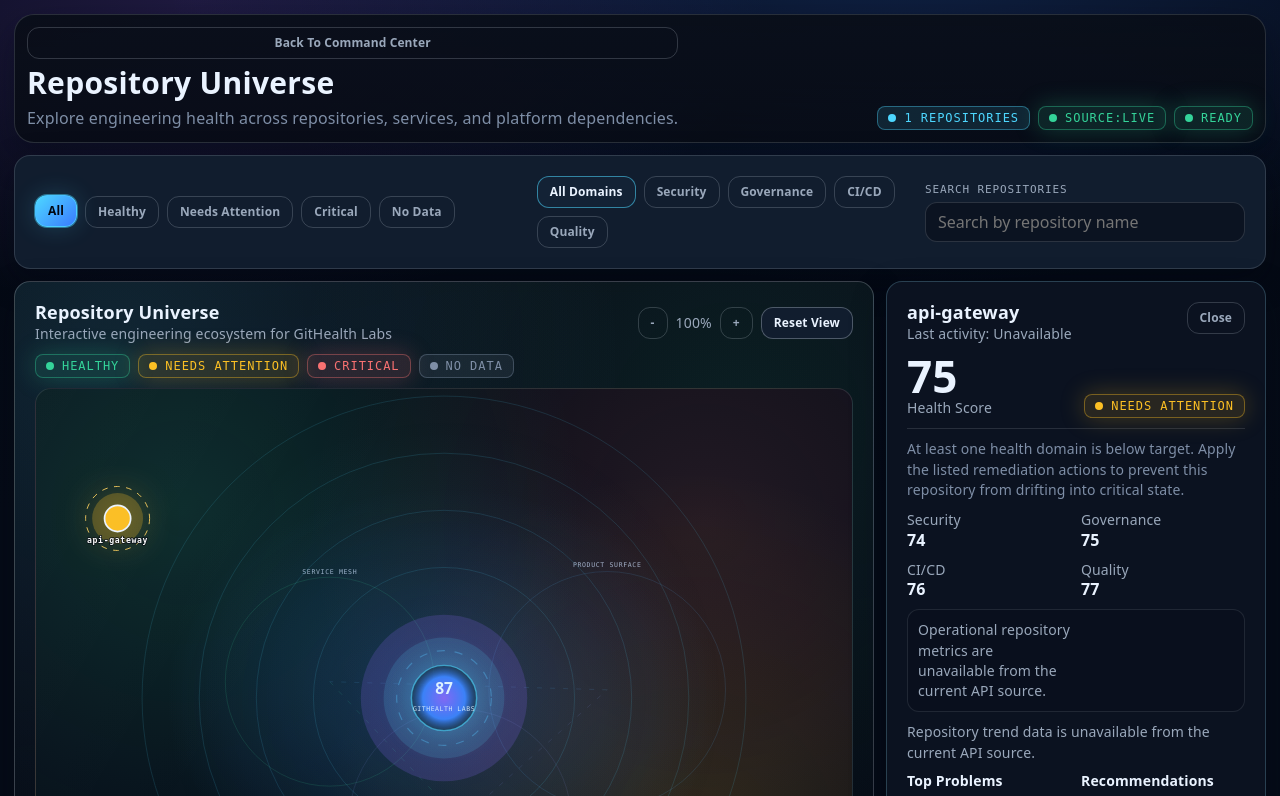
Test: RepositoryUniverseScreen state handling › keeps filter-empty distinct from successful API-empty
Type "non-existent" into the field labelled "Search repositories" at x=1085, y=222, box [925,202,1245,242]
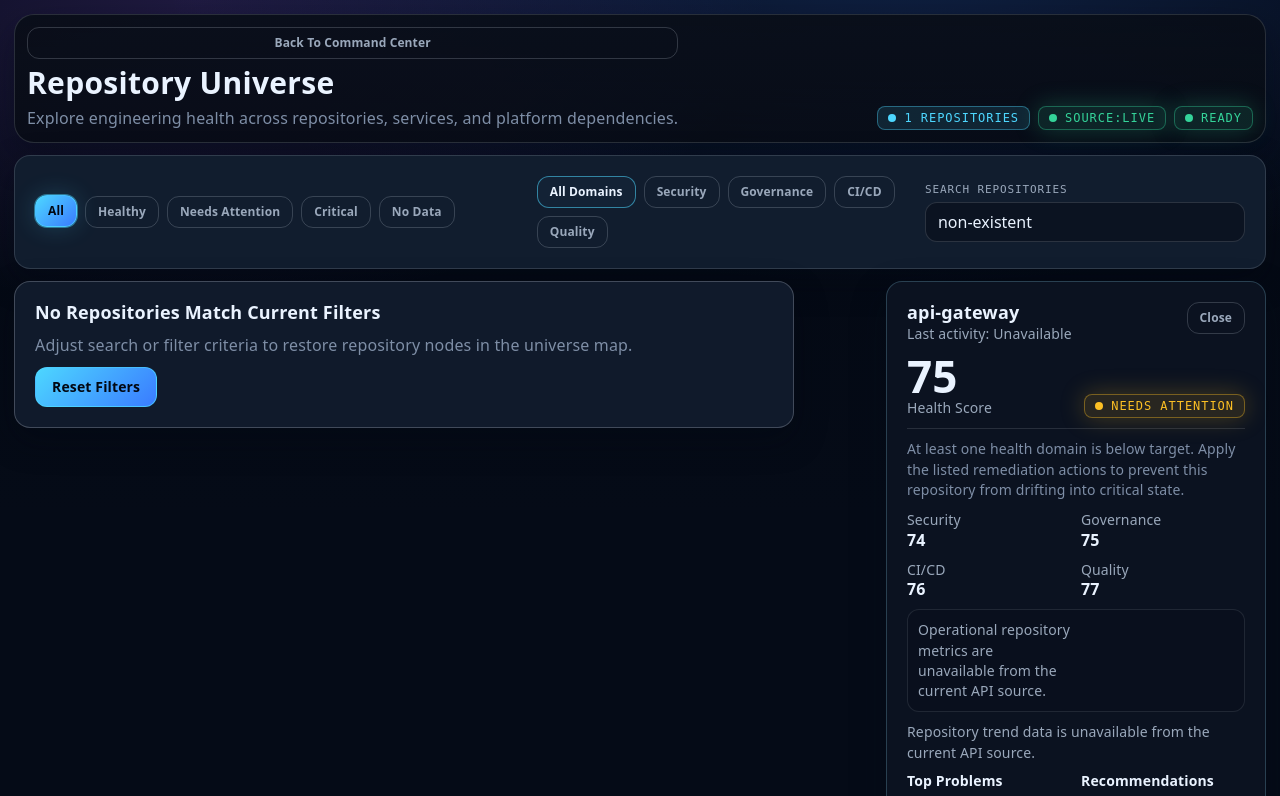
Expected: the heading "No Repositories Match Current Filters" is shown, [35,300,381,324]
